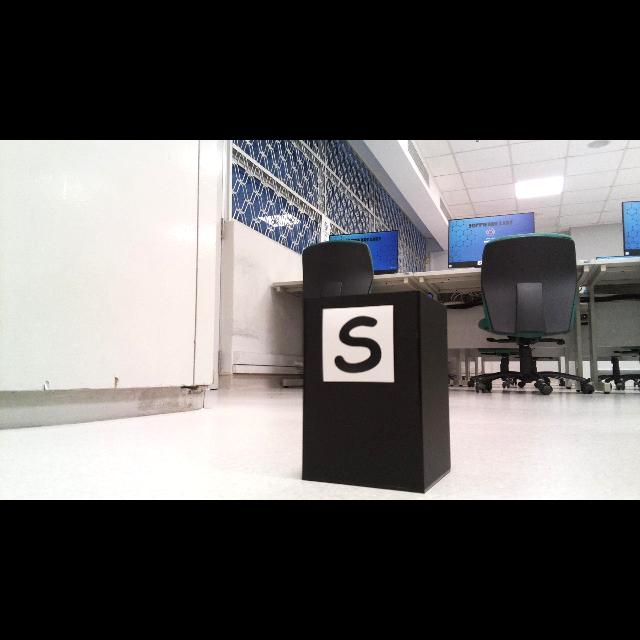S: (335, 317, 382, 373)
